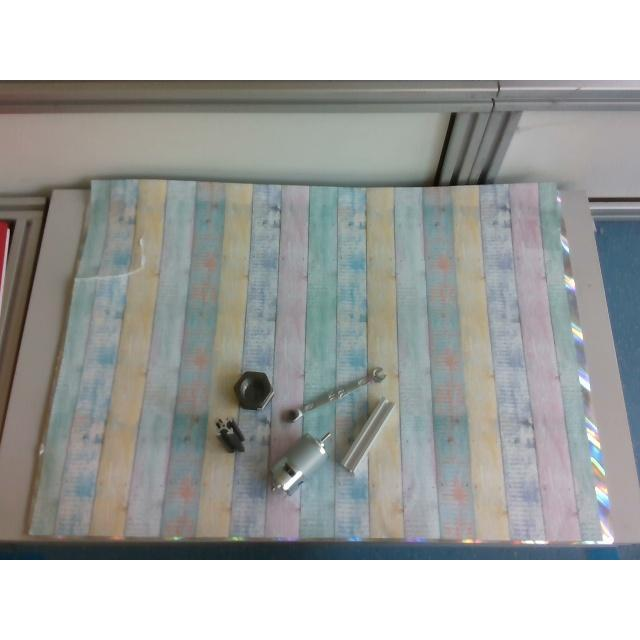F20_20_B: (216, 418, 244, 452)
F20_20_G: (340, 396, 394, 472)
M30: (234, 371, 274, 409)
Motor2: (272, 434, 332, 494)
Wrench: (287, 366, 385, 422)
